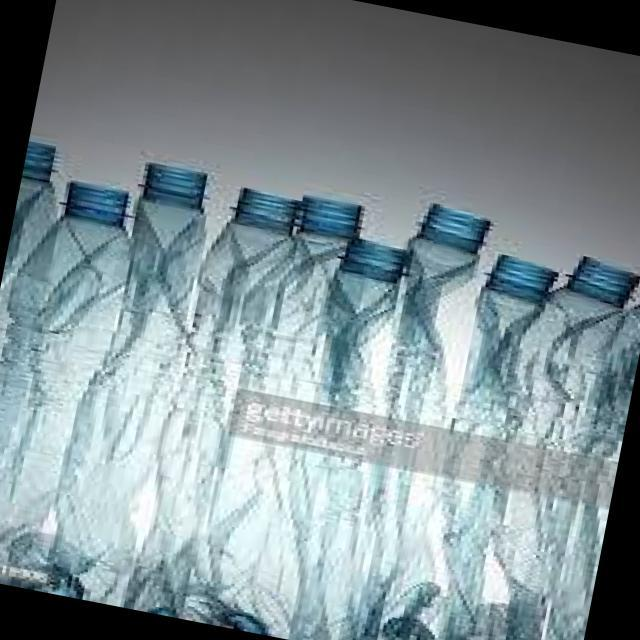good: (40, 152, 244, 614), (112, 178, 308, 628), (238, 226, 442, 640), (199, 186, 377, 640), (0, 167, 166, 594), (457, 240, 625, 640), (521, 277, 640, 640), (421, 242, 593, 436), (0, 136, 72, 576), (373, 190, 529, 346)
